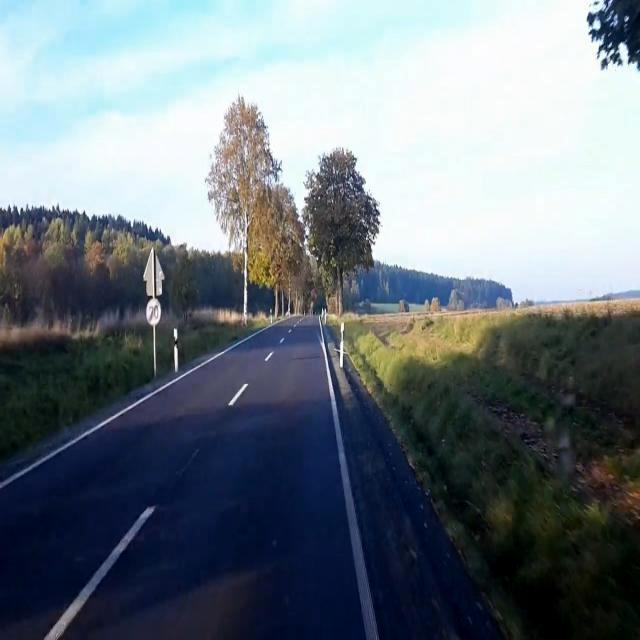lane: (2, 323, 278, 489), (321, 330, 380, 639), (44, 505, 156, 639), (229, 384, 247, 406)
road: (0, 316, 501, 639)
